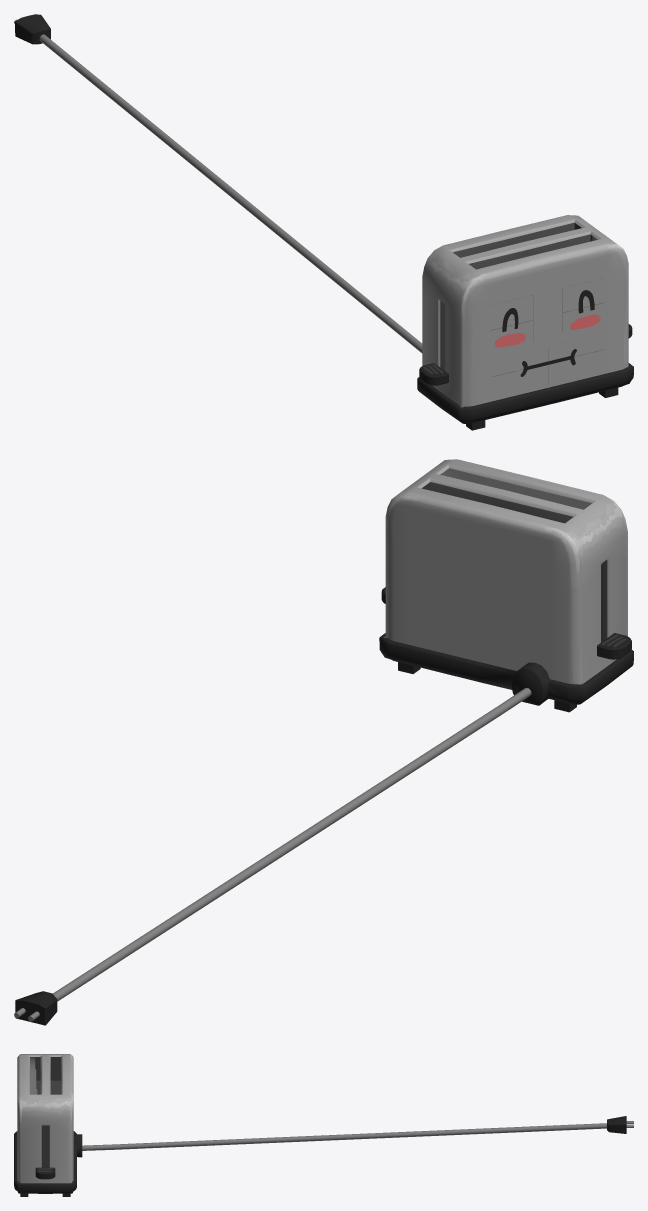
The model's file is M_toaster.FBX.
3 views of the same model, one above another, from view 1: azimuth 30°, elevation 25°; view 2: azimuth 150°, elevation 25°; view 3: azimuth 270°, elevation 25° (orthographic). The views are drawn at different scales.
Visible parts, largest first — view 1: SM_Toaster; view 2: SM_Toaster; view 3: SM_Toaster.
Boxes of the visible parts, bbox=[...] form: SM_Toaster: bbox=[14, 14, 633, 430]; SM_Toaster: bbox=[14, 459, 633, 1025]; SM_Toaster: bbox=[14, 1054, 633, 1196].
Size of the model in its own units: 577 by 415 by 2345.
